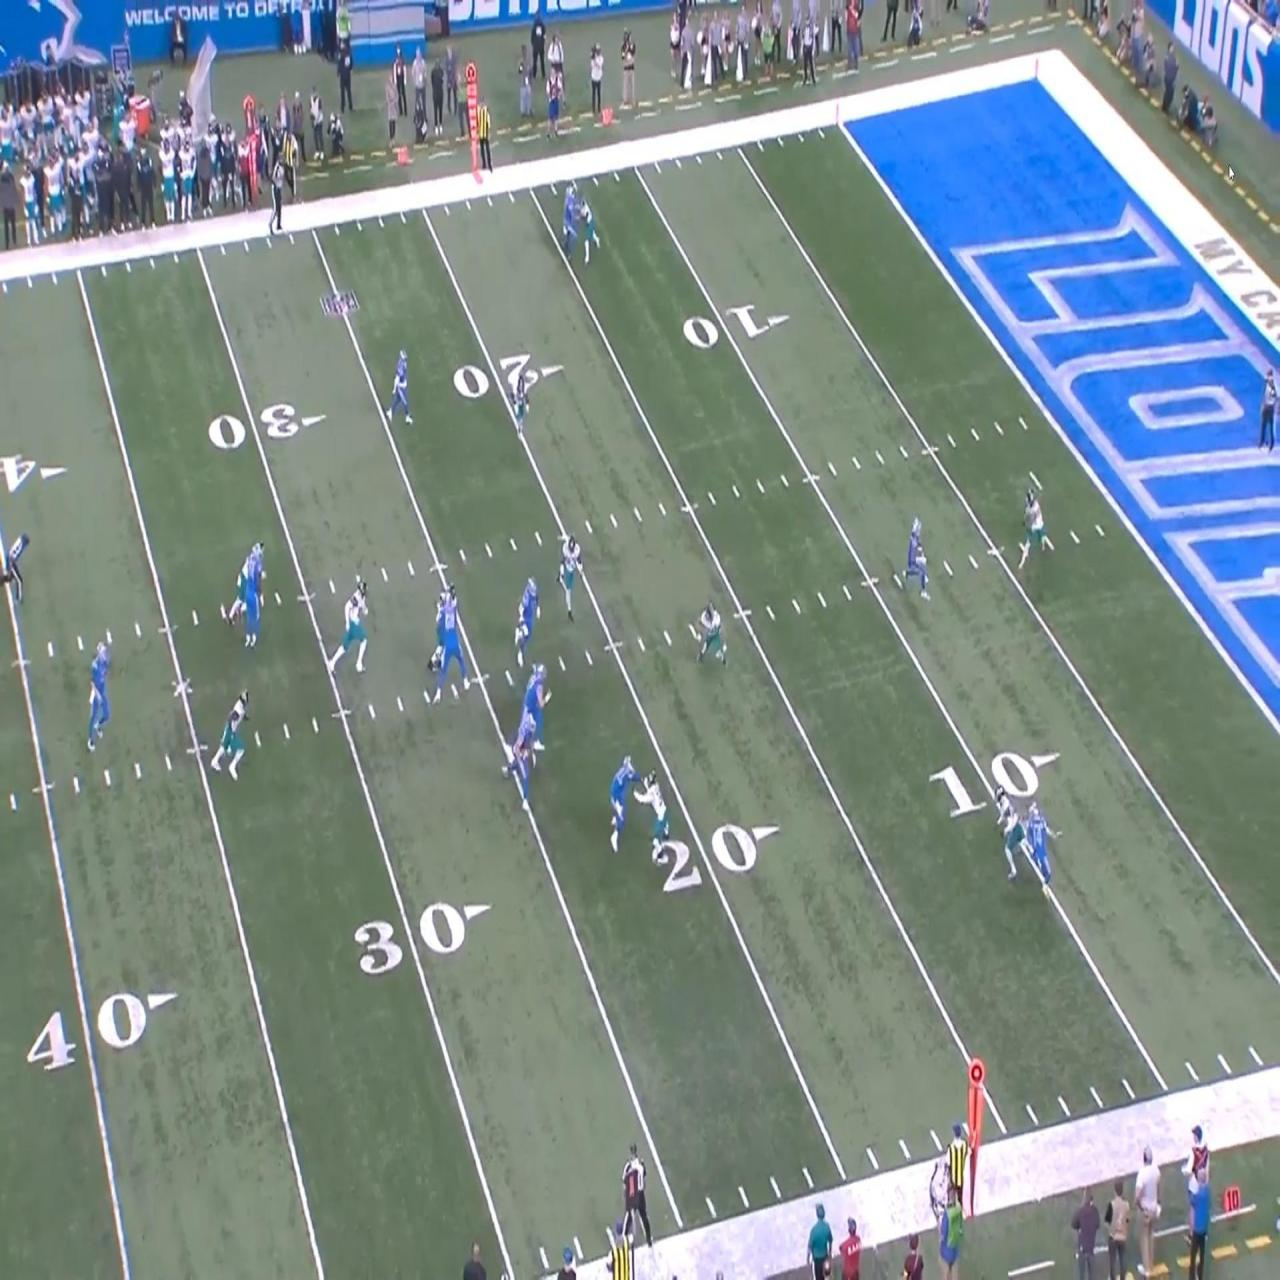10R: (930, 750, 1062, 822), (682, 301, 789, 352)
20R: (652, 819, 779, 893), (454, 352, 564, 399)
30R: (354, 900, 491, 975), (207, 401, 327, 452)
40R: (26, 990, 178, 1074), (0, 452, 68, 492)
